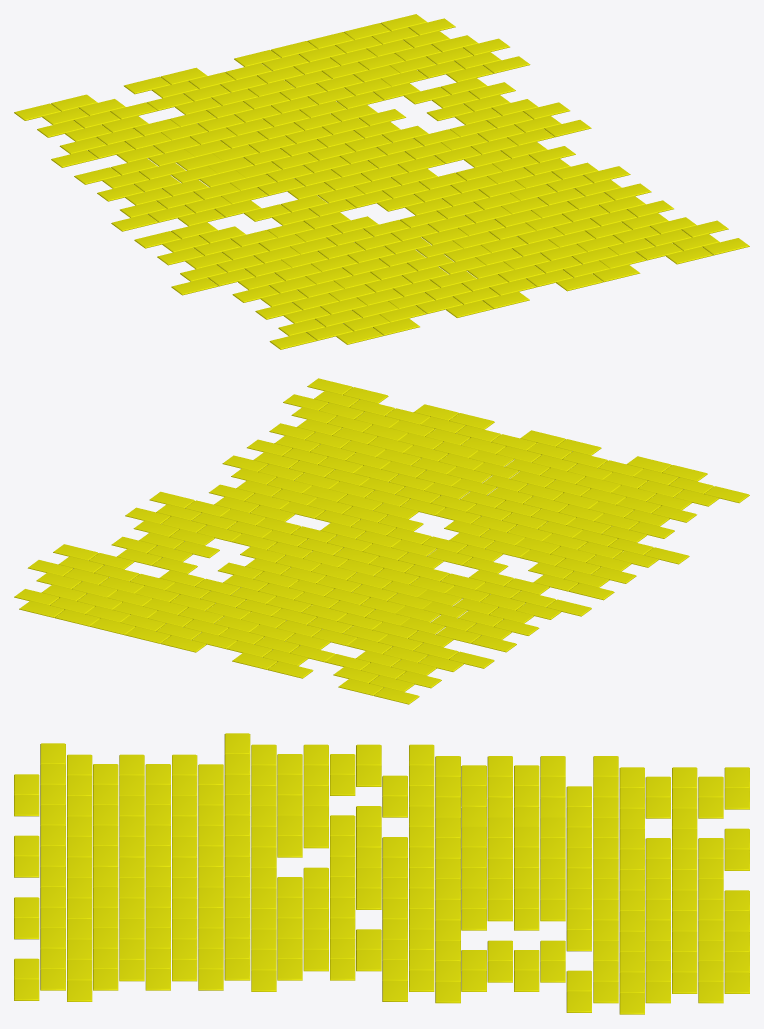
Rendered from sueloGrande.fbx.
The picture shows the model from 3 angles, top to bottom: view 1: azimuth 30°, elevation 25°; view 2: azimuth 150°, elevation 25°; view 3: azimuth 270°, elevation 25°; orthographic projection. The views are drawn at different scales.
Parts seen in each view (by area): view 1: Suelo01; view 2: Suelo01; view 3: Suelo01.
Part boxes in pixels (x1,y1,x2,y2): Suelo01: (14,14,749,349); Suelo01: (14,378,749,704); Suelo01: (14,733,749,1014).
Bounding box in the file's own units: 6555 × 16.95 × 7285.
